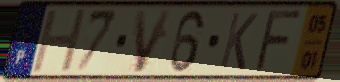6: (167, 8, 207, 75)
7: (75, 7, 121, 75)
F: (252, 8, 307, 74)
H: (29, 7, 90, 76)
K: (217, 10, 260, 72)
V: (133, 7, 175, 75)
